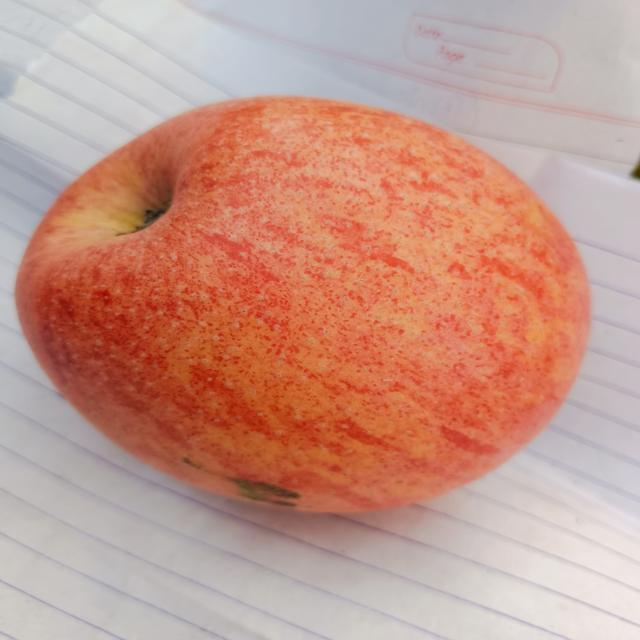Fresh Apple: (17, 83, 607, 523)
